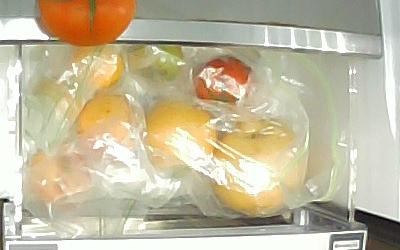peach_vinyl: (26, 138, 92, 205), (74, 93, 133, 146)
pear_vinyl: (209, 117, 300, 216), (144, 98, 218, 167)
tangerine_vinyl: (69, 45, 125, 89)
tomato_vinyl: (193, 53, 252, 103), (126, 44, 184, 82)
